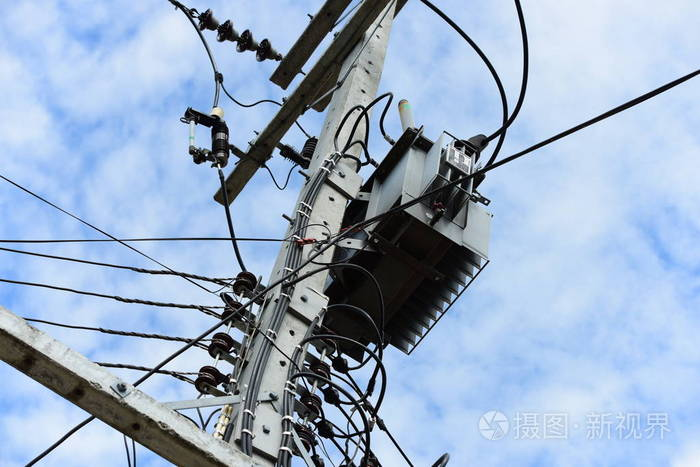insulator: (197, 9, 270, 61)
